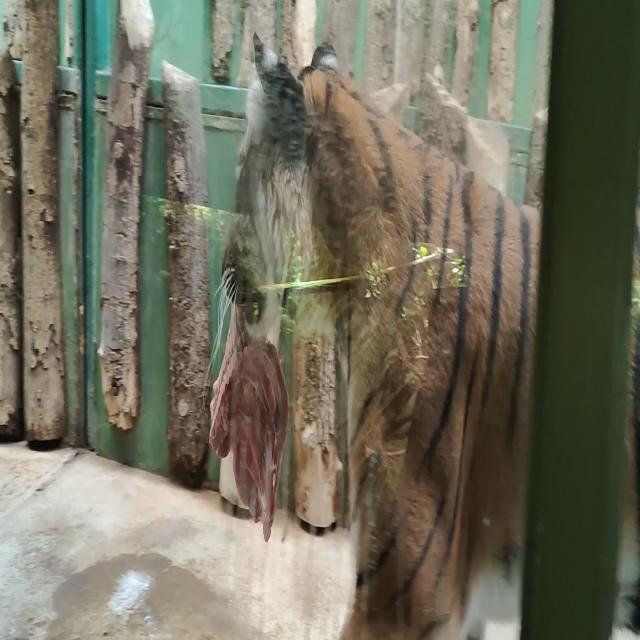tiger: (221, 31, 640, 639)
